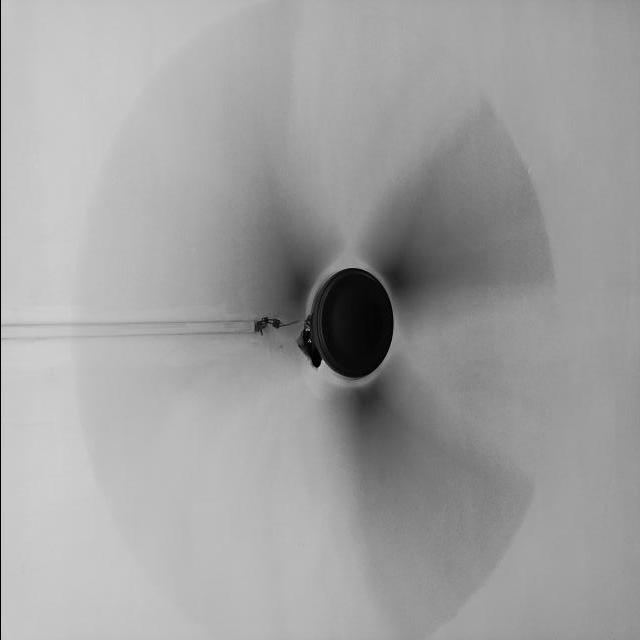fan: (78, 9, 559, 626)
light: (296, 267, 393, 382)
